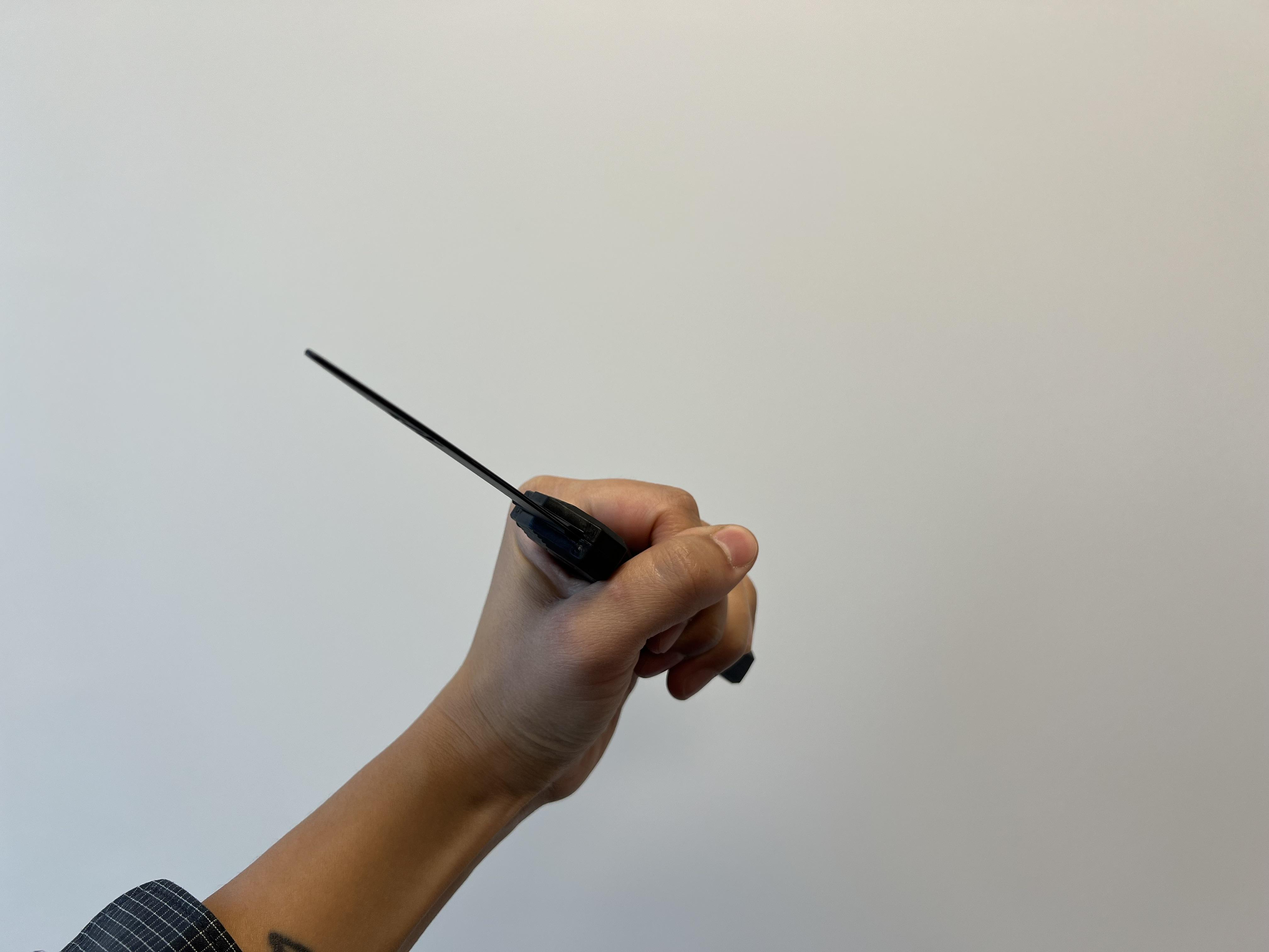Knife: (0, 480, 762, 952), (296, 332, 768, 696), (436, 472, 768, 812)
